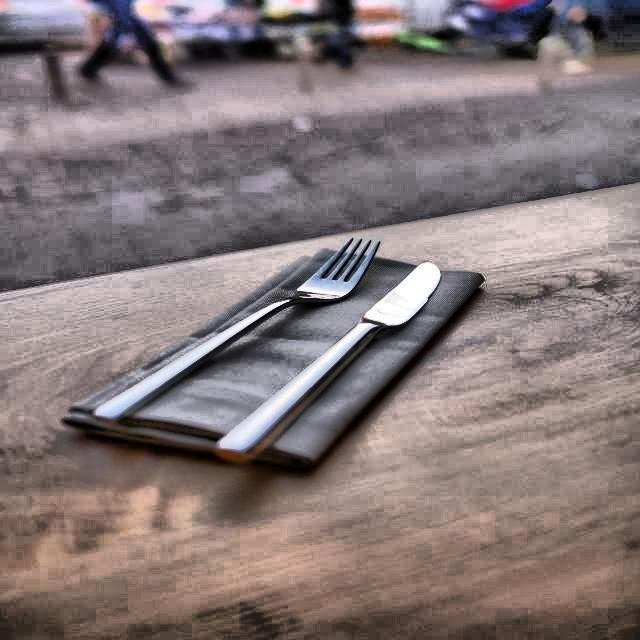knife: (216, 266, 447, 454)
